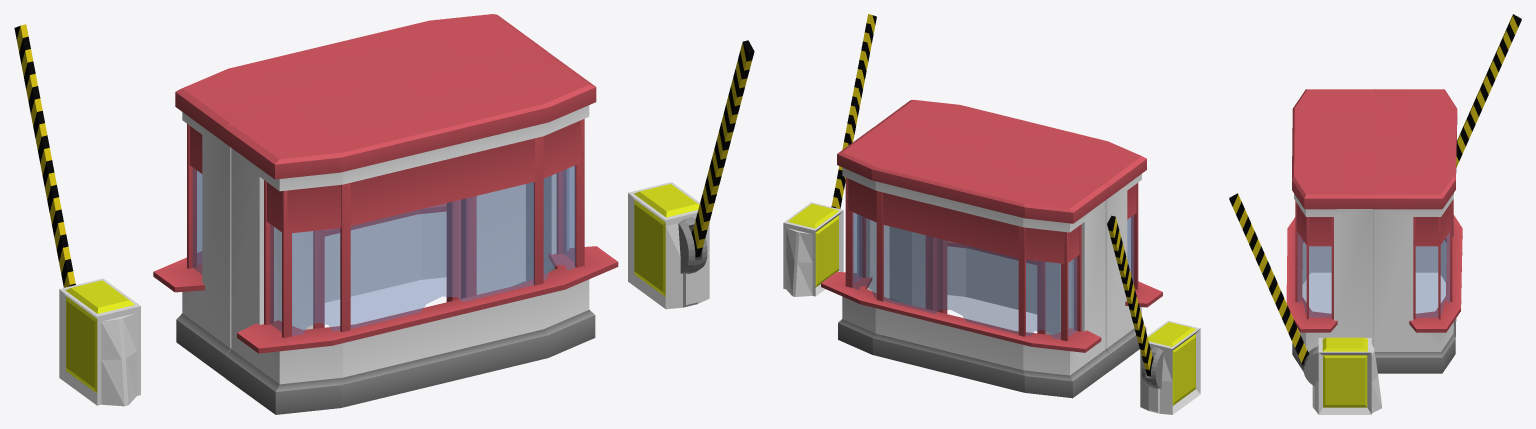
The model's file is tollgate.glb.
3 renders of one model, left to right at view 1: azimuth 30°, elevation 25°; view 2: azimuth 150°, elevation 25°; view 3: azimuth 270°, elevation 25°, orthographic. The views are drawn at different scales.
Visible parts, largest first — view 1: TicketBooth, TicketBooth_0.001, TicketBooth_2.001, TicketBooth_1.001, TicketBooth_3.001, Mesh_9, Mesh_9.001, Mesh_8, Mesh_8.001, Mesh_5, Mesh_6, Mesh_6.001 (+2 smaller); view 2: TicketBooth, TicketBooth_0.001, TicketBooth_3.001, TicketBooth_2.001, Mesh_9.001, Mesh_9, Mesh_8, Mesh_8.001, Mesh_6, Mesh_5, Mesh_5.001, Mesh_6.001 (+2 smaller); view 3: TicketBooth, TicketBooth_3.001, TicketBooth_0.001, TicketBooth_2.001, Mesh_8.001, TicketBooth_1.001, Mesh_9.001, Mesh_6.001, Mesh_5.001, Mesh_6, Mesh_5, Mesh_7.001.
Part boxes in pixels (x1,y1,x2,y2): TicketBooth: (153, 14, 546, 377); TicketBooth_0.001: (225, 105, 595, 414); TicketBooth_2.001: (237, 119, 618, 353); TicketBooth_1.001: (270, 165, 575, 335); TicketBooth_3.001: (224, 49, 596, 179); Mesh_9: (59, 278, 140, 406); Mesh_9.001: (628, 182, 709, 309); Mesh_8: (65, 280, 134, 393); Mesh_8.001: (634, 184, 699, 296); Mesh_5: (16, 24, 75, 287); Mesh_6: (14, 25, 75, 286); Mesh_6.001: (691, 40, 754, 257); TicketBooth: (821, 126, 1110, 398); TicketBooth_0.001: (889, 174, 1146, 370); TicketBooth_3.001: (875, 99, 1146, 196); TicketBooth_2.001: (925, 183, 1162, 334); Mesh_9.001: (783, 202, 843, 296); Mesh_9: (1140, 320, 1200, 414); Mesh_8: (1148, 322, 1195, 405); Mesh_8.001: (788, 203, 838, 287); Mesh_6: (1107, 215, 1153, 376); Mesh_5: (1109, 217, 1152, 369); Mesh_5.001: (831, 14, 875, 208); Mesh_6.001: (831, 15, 876, 208); TicketBooth: (1373, 89, 1462, 373); TicketBooth_3.001: (1292, 89, 1386, 209); TicketBooth_0.001: (1292, 193, 1373, 370); TicketBooth_2.001: (1286, 201, 1337, 332); Mesh_8.001: (1322, 337, 1367, 407); TicketBooth_1.001: (1297, 232, 1331, 317); Mesh_9.001: (1312, 338, 1381, 414); Mesh_6.001: (1229, 193, 1309, 366); Mesh_5.001: (1232, 194, 1306, 362); Mesh_6: (1456, 14, 1521, 161); Mesh_5: (1456, 14, 1517, 167); Mesh_7.001: (1303, 346, 1318, 386).
Size of the model in its own units: 7.97 by 4.11 by 5.07.
